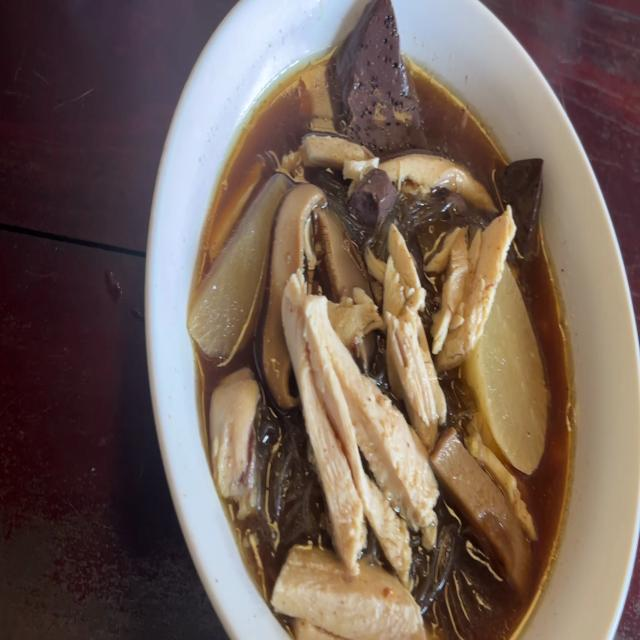noodle: (328, 0, 416, 143), (496, 150, 545, 249), (351, 168, 400, 232)
